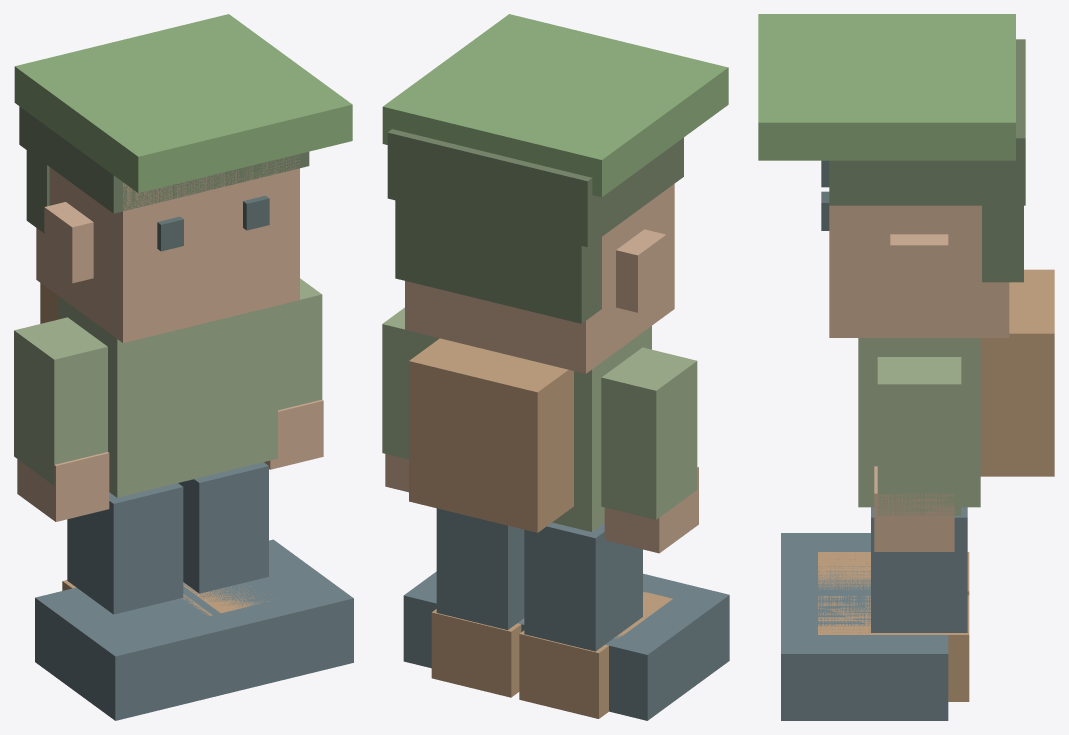
File: character-1.glb
3 views of the same model, side by side, from view 1: azimuth 30°, elevation 25°; view 2: azimuth 150°, elevation 25°; view 3: azimuth 270°, elevation 25° (orthographic). The views are drawn at different scales.
Visible parts, largest first — view 1: body_green.001, body_skin1.001, sit_pants.005, body_shirt1.001, stand_pants.005, arms_shirt1.001, body_hair1.001, arms_skin1.001, body_black.005, stand_wood.005, body_wood.001; view 2: body_green.001, body_hair1.001, body_wood.001, stand_pants.005, body_skin1.001, arms_shirt1.001, sit_pants.005, stand_wood.005, body_shirt1.001, arms_skin1.001; view 3: body_green.001, sit_pants.005, body_skin1.001, body_hair1.001, body_wood.001, arms_shirt1.001, stand_pants.005, body_shirt1.001, stand_wood.005, arms_skin1.001, body_black.005.
Part boxes in pixels (x1,y1,x2,y2): body_green.001: (14, 14, 352, 193); body_skin1.001: (36, 154, 299, 342); sit_pants.005: (35, 539, 353, 720); body_shirt1.001: (58, 296, 277, 497); stand_pants.005: (67, 462, 268, 614); arms_shirt1.001: (14, 278, 322, 485); body_hair1.001: (19, 106, 309, 232); arms_skin1.001: (17, 399, 323, 521); body_black.005: (157, 195, 269, 251); stand_wood.005: (62, 580, 269, 615); body_wood.001: (40, 283, 58, 323); body_green.001: (382, 14, 728, 197); body_hair1.001: (387, 129, 683, 323); body_wood.001: (409, 338, 573, 532); stand_pants.005: (436, 508, 642, 651); body_skin1.001: (405, 184, 674, 373); arms_shirt1.001: (382, 307, 697, 519); sit_pants.005: (403, 571, 729, 720); stand_wood.005: (431, 592, 672, 718); body_shirt1.001: (427, 326, 651, 531); arms_skin1.001: (385, 454, 698, 553); body_green.001: (758, 14, 1015, 160); sit_pants.005: (781, 533, 948, 720); body_skin1.001: (829, 205, 1009, 337); body_hair1.001: (829, 39, 1025, 282); body_wood.001: (980, 269, 1054, 476); arms_shirt1.001: (877, 357, 961, 515); stand_pants.005: (871, 507, 967, 632); body_shirt1.001: (858, 338, 980, 507); stand_wood.005: (818, 552, 969, 701); arms_skin1.001: (874, 466, 954, 551); body_black.005: (821, 160, 829, 230).
Bounding box in the file's own units: 1 × 2.03 × 0.92.
